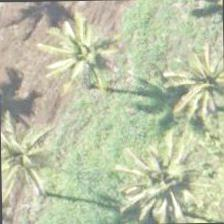Kelapa_Sawit: (31, 10, 123, 102), (120, 141, 212, 223), (0, 114, 64, 205), (161, 47, 223, 139)
